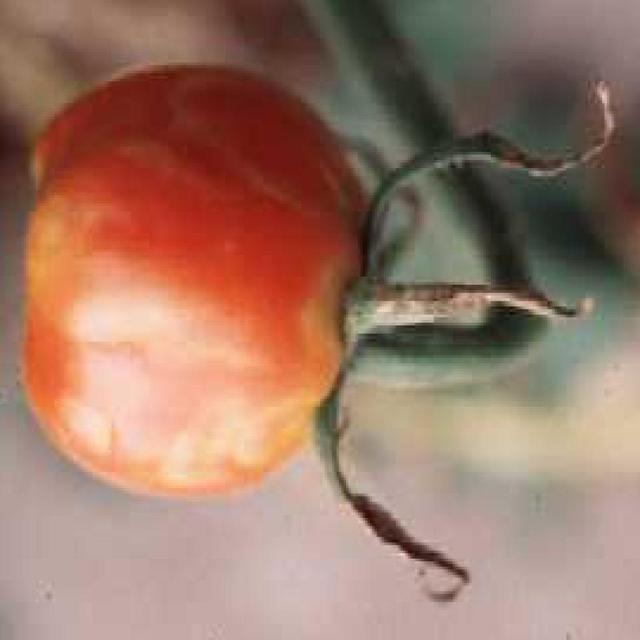Spotted wilt Virus Fruit: (14, 0, 27, 221)
